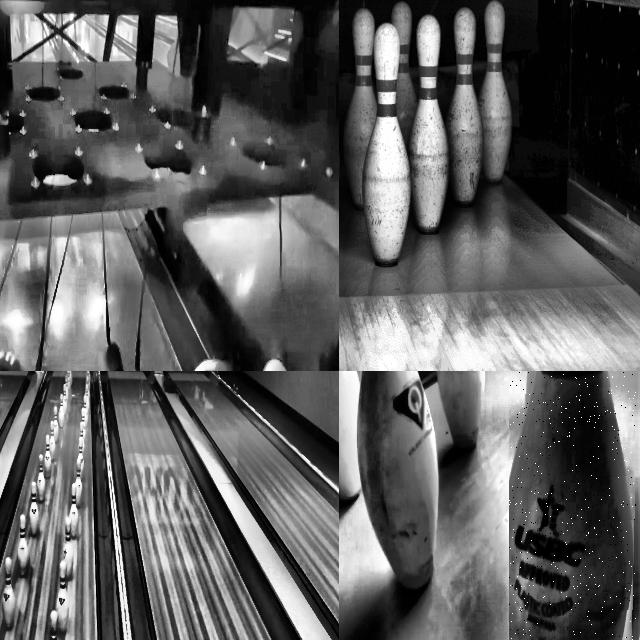bowling-pins: (510, 371, 636, 640), (356, 371, 438, 590), (362, 24, 412, 267), (408, 14, 450, 233), (446, 7, 484, 207), (344, 7, 377, 210), (479, 0, 513, 183), (436, 371, 484, 450), (392, 1, 418, 144), (339, 371, 360, 501), (2, 558, 16, 629), (57, 561, 69, 633), (17, 514, 29, 576), (63, 517, 74, 579), (29, 481, 39, 536), (69, 482, 79, 537), (488, 43, 503, 71), (75, 455, 83, 507), (37, 454, 45, 501), (44, 433, 52, 477), (50, 610, 58, 640), (50, 420, 56, 460), (53, 405, 59, 442), (58, 392, 64, 427), (63, 382, 68, 415), (81, 407, 86, 439), (80, 424, 82, 431)
